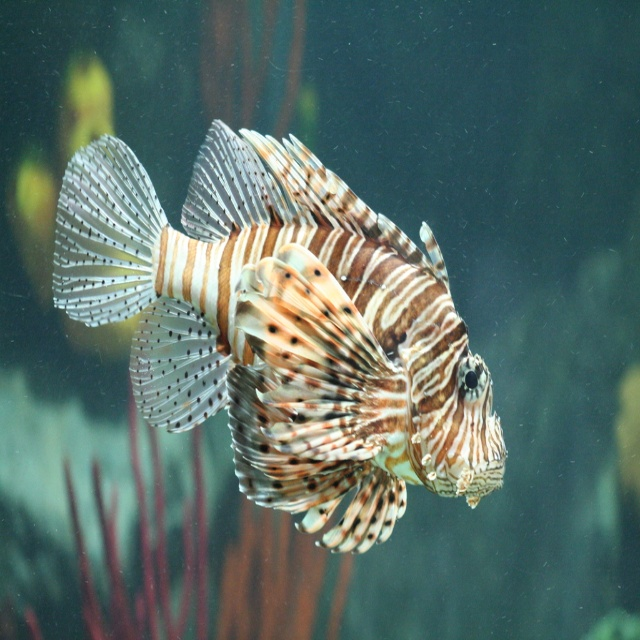Fish: (52, 119, 508, 555)
